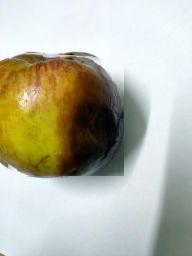Apple Rotten: (1, 51, 125, 176)
